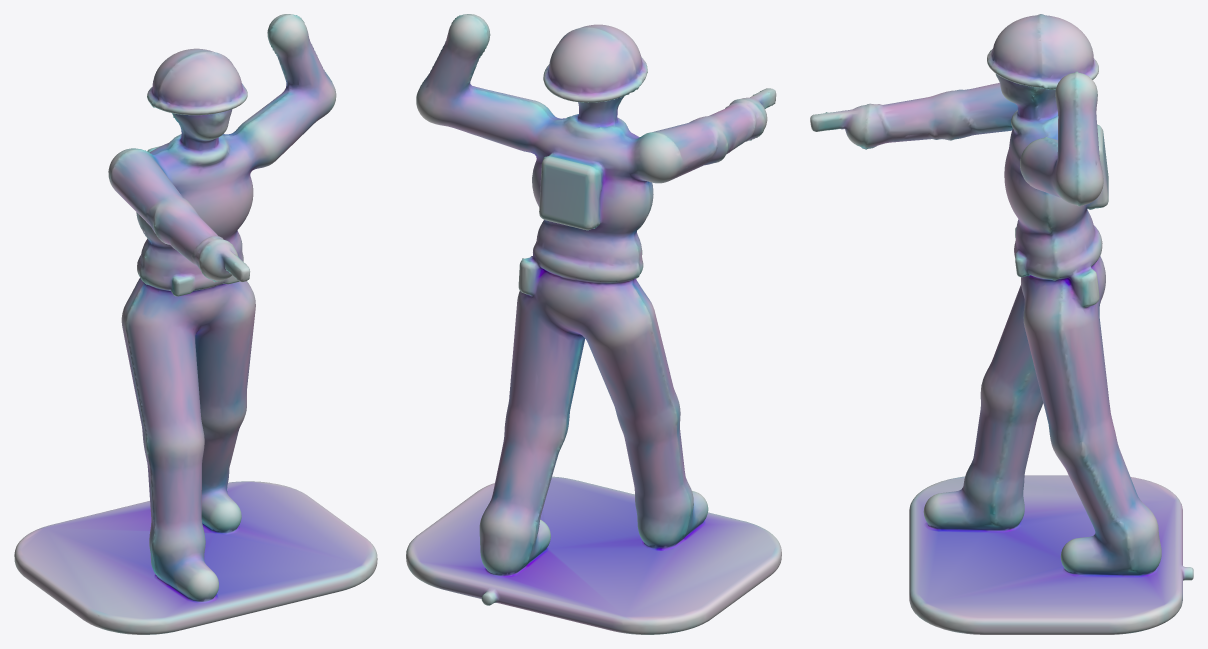
The model's file is loejtnant.glb.
3 views of the same model, side by side, from view 1: azimuth 30°, elevation 25°; view 2: azimuth 150°, elevation 25°; view 3: azimuth 270°, elevation 25° (orthographic). The views are drawn at different scales.
Parts seen in each view (by area): view 1: loejtnant; view 2: loejtnant; view 3: loejtnant.
Part boxes in pixels (x1=…): loejtnant: x1=14, y1=14, x2=377, y2=634; loejtnant: x1=406, y1=14, x2=781, y2=634; loejtnant: x1=810, y1=14, x2=1193, y2=634.
Size of the model in its own units: 0.4773 by 0.7895 by 0.504.
